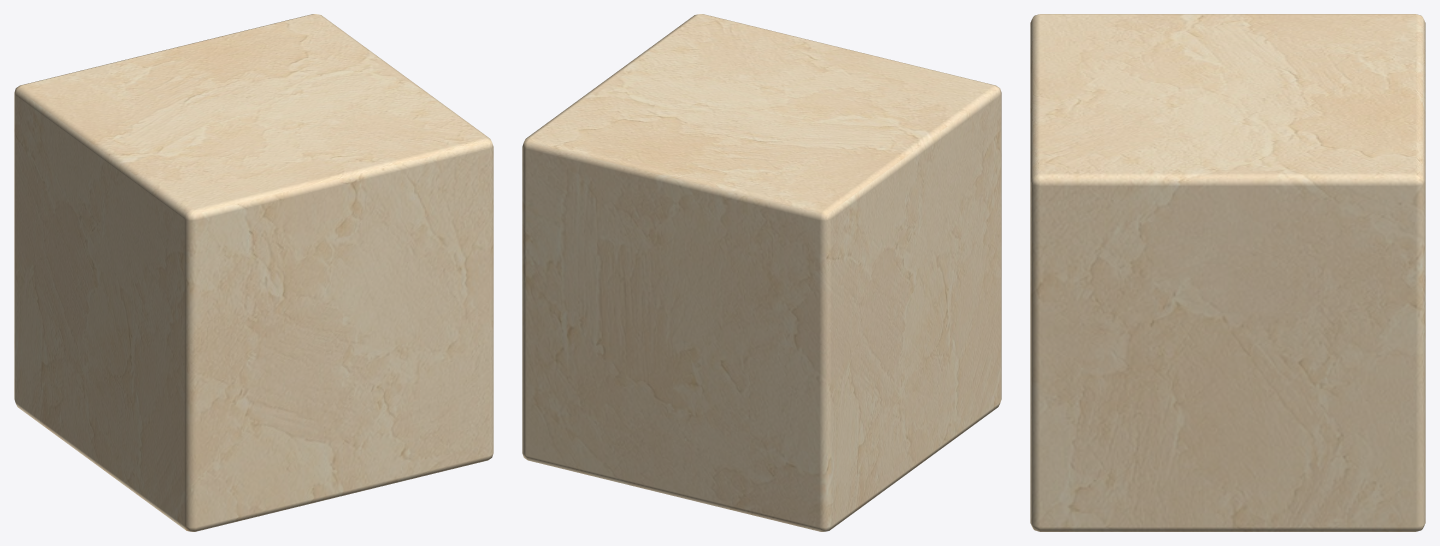
Rendered from stucco-body.glb.
3 views of the same model, side by side, from view 1: azimuth 30°, elevation 25°; view 2: azimuth 150°, elevation 25°; view 3: azimuth 270°, elevation 25° (orthographic). The views are drawn at different scales.
Parts seen in each view (by area): view 1: stucco-body_LOD0; view 2: stucco-body_LOD0; view 3: stucco-body_LOD0.
Boxes of the visible parts, x1,y1,x2,y2 form: stucco-body_LOD0: [14, 14, 493, 531]; stucco-body_LOD0: [522, 14, 1001, 531]; stucco-body_LOD0: [1030, 14, 1425, 531].
Size of what is drawn, in the model's own units: 1 by 1 by 1.
1 material, 1 textured.
